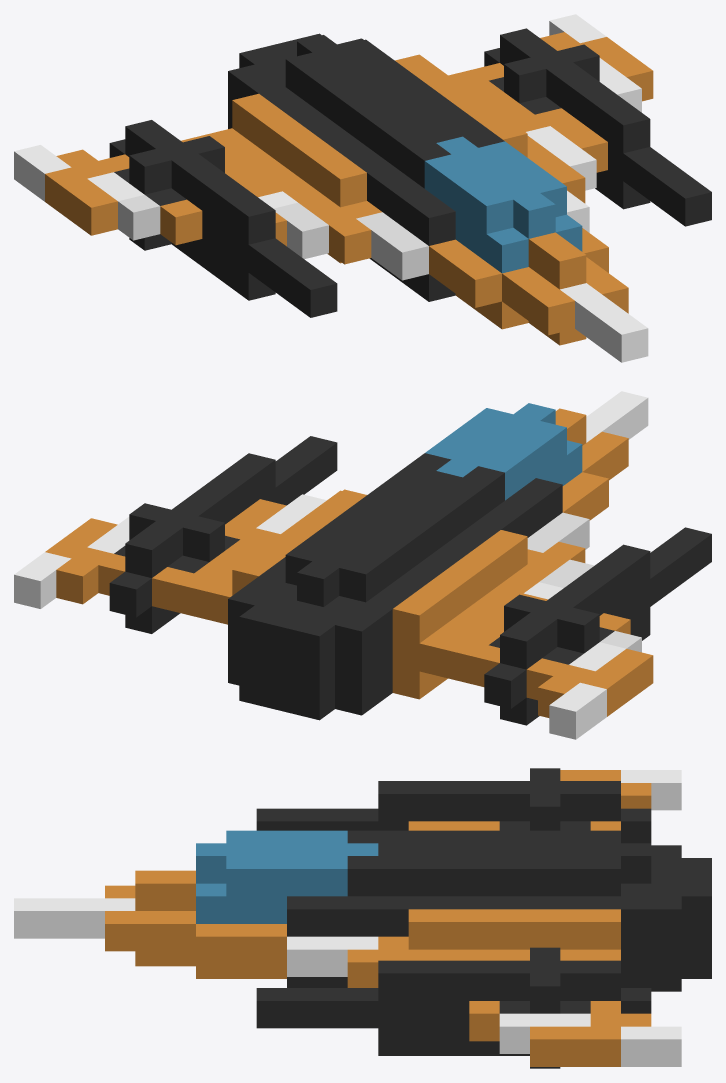
The model's file is Spaceship.obj.
3 views of the same model, one above another, from view 1: azimuth 30°, elevation 25°; view 2: azimuth 150°, elevation 25°; view 3: azimuth 270°, elevation 25° (orthographic).
Size of the model in its own units: 2.1 by 0.4 by 2.3.
1 material, 1 textured.
